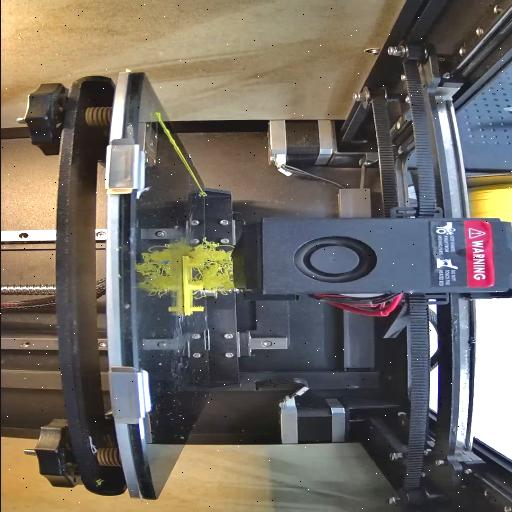spaghetti: (192, 240, 236, 298)
